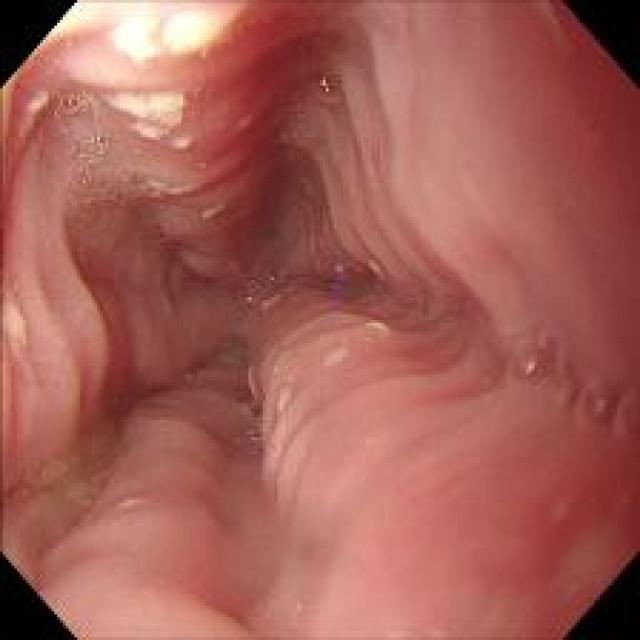bubbles: (61, 161, 140, 230), (50, 88, 92, 124), (58, 485, 106, 512), (241, 400, 266, 444), (309, 66, 340, 100), (72, 131, 109, 151), (272, 125, 299, 144), (291, 95, 306, 121)
saturation: (100, 8, 220, 68)
